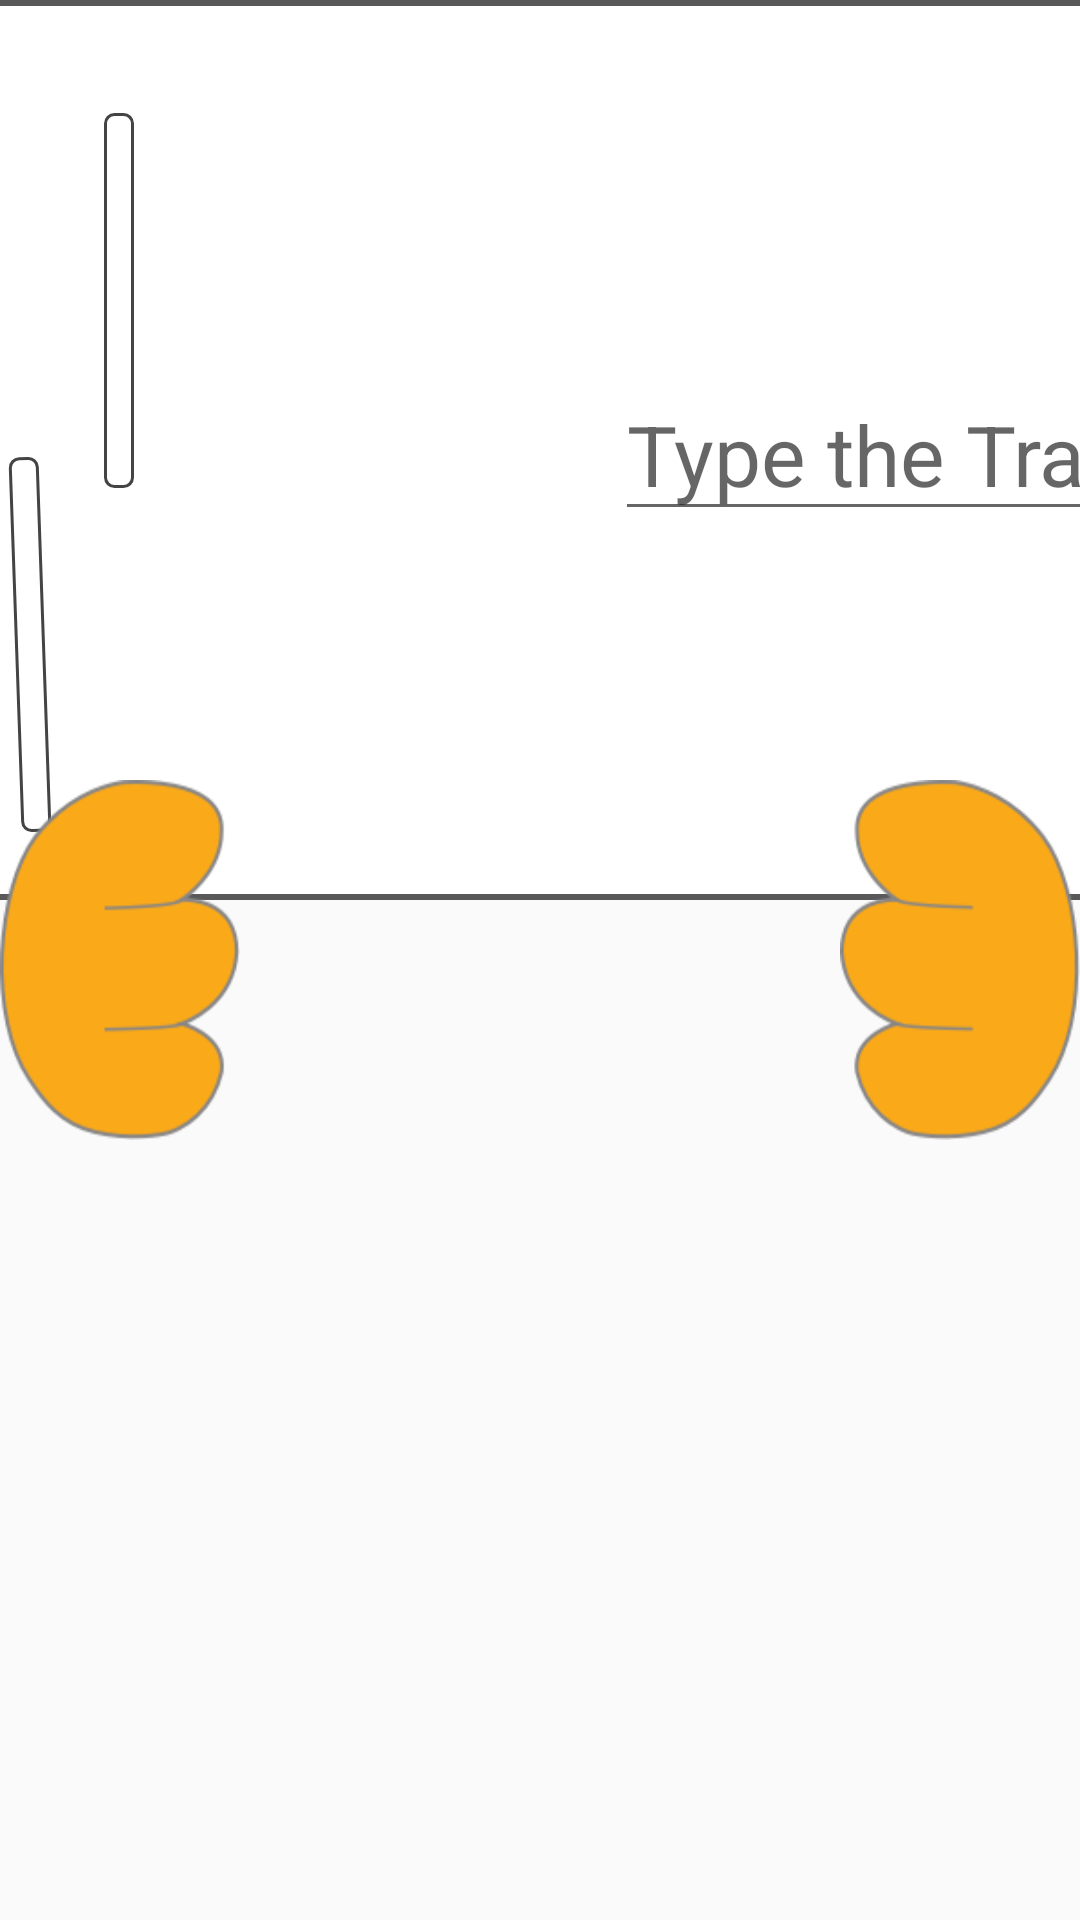

Named icons in this screenshot (1080px x 1920px) and their centers, (x,y):
left hand: (120,960)
right hand: (960,960)
